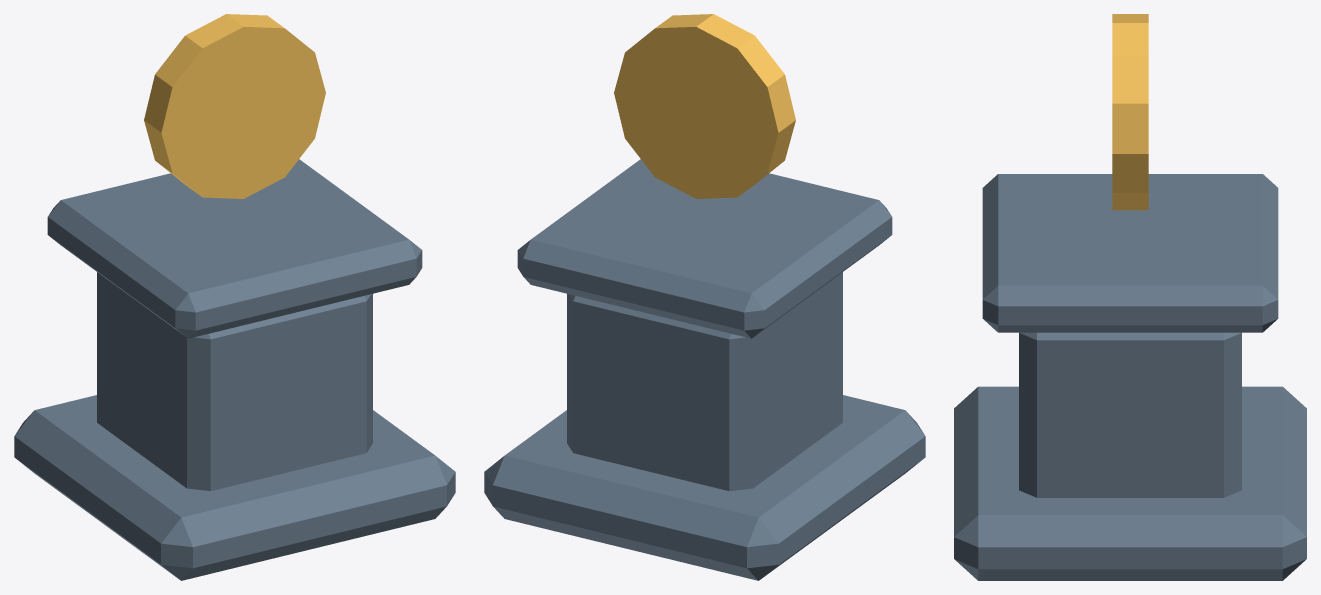
Rendered from pilar_galeao.glb.
3 renders of one model, left to right at view 1: azimuth 30°, elevation 25°; view 2: azimuth 150°, elevation 25°; view 3: azimuth 270°, elevation 25°, orthographic. The views are drawn at different scales.
Parts seen in each view (by area): view 1: pedreira_pilar_galeao; view 2: pedreira_pilar_galeao; view 3: pedreira_pilar_galeao.
Boxes of the visible parts, left/top/right/bottom form: pedreira_pilar_galeao: left=14, top=14, right=455, bottom=580; pedreira_pilar_galeao: left=484, top=14, right=925, bottom=580; pedreira_pilar_galeao: left=954, top=14, right=1306, bottom=580.
Size of the model in its own units: 0.68 by 1.05 by 0.68.
